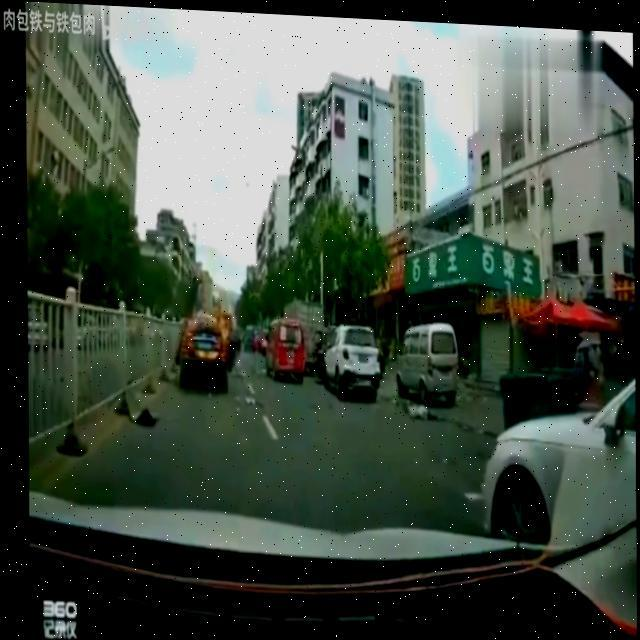normal: (392, 313, 473, 415), (312, 311, 387, 410), (172, 310, 244, 408)
